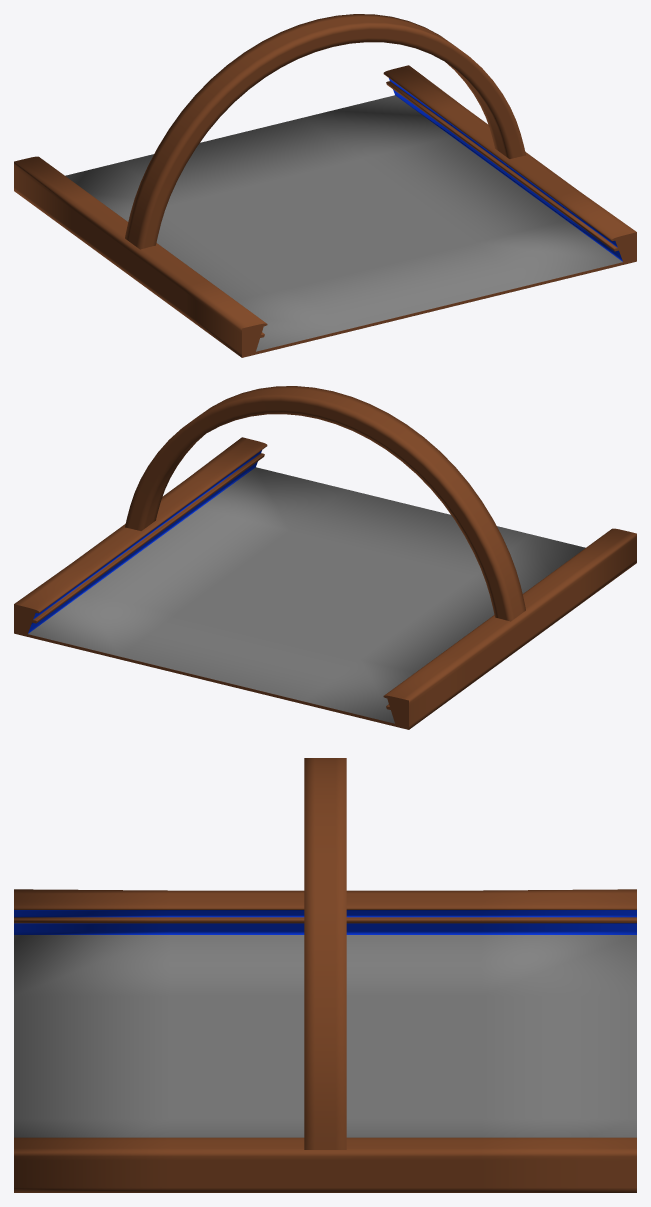
Rendered from Checkpoint.fbx.
3 renders of one model, top to bottom at view 1: azimuth 30°, elevation 25°; view 2: azimuth 150°, elevation 25°; view 3: azimuth 270°, elevation 25°, orthographic. The views are drawn at different scales.
Visible parts, largest first — view 1: Recta, Chechpoint; view 2: Recta, Chechpoint; view 3: Recta, Chechpoint.
Boxes of the visible parts, box(x1,y1,x2,y2) form: Recta: box(14, 65, 636, 357); Chechpoint: box(125, 14, 525, 249); Recta: box(14, 437, 636, 729); Chechpoint: box(125, 386, 525, 621); Recta: box(14, 889, 636, 1192); Chechpoint: box(304, 758, 346, 1149).
Bounding box in the file's own units: 14 × 6.82 × 14.
